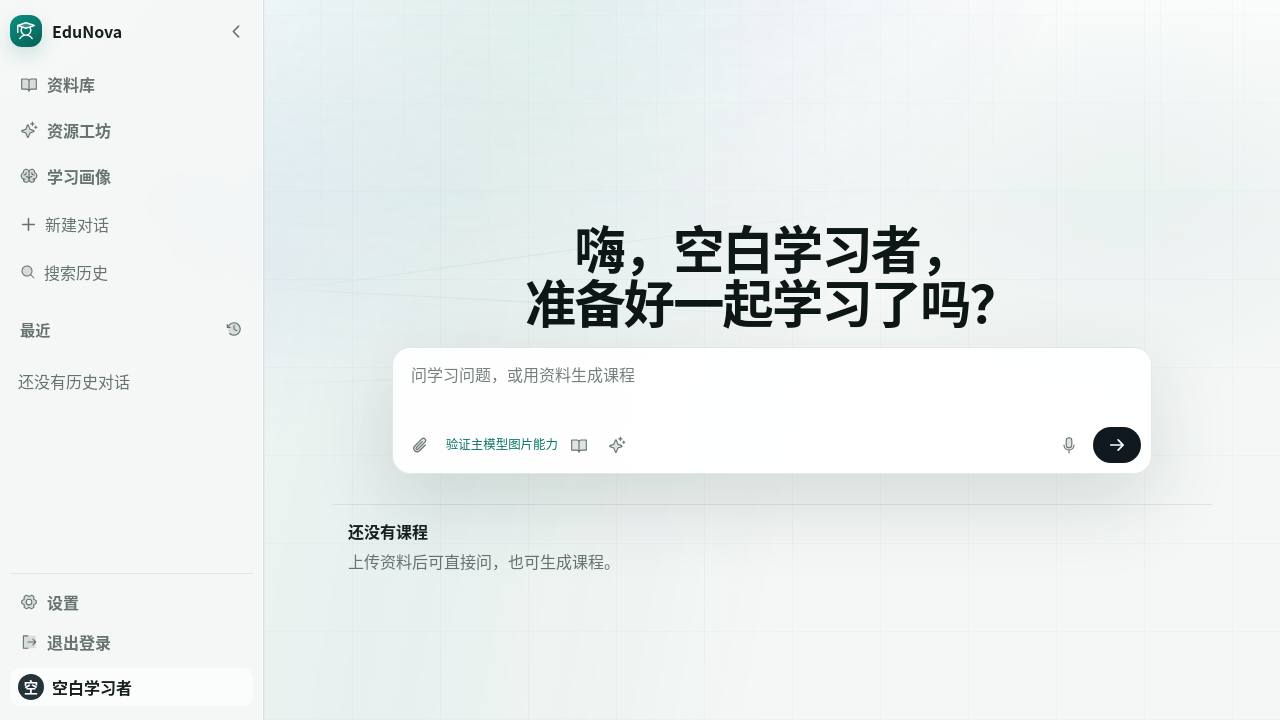
Test: LearningSpacePage › keeps blank dashboard summaries free of static materials and starter history
Check: the text "还没有课程" is shown, box [348, 518, 428, 542]
Check: the text "还没有历史对话" is shown, box [18, 369, 130, 393]
Click the button named "打开资料库".
click(579, 444)  # box [562, 430, 596, 460]
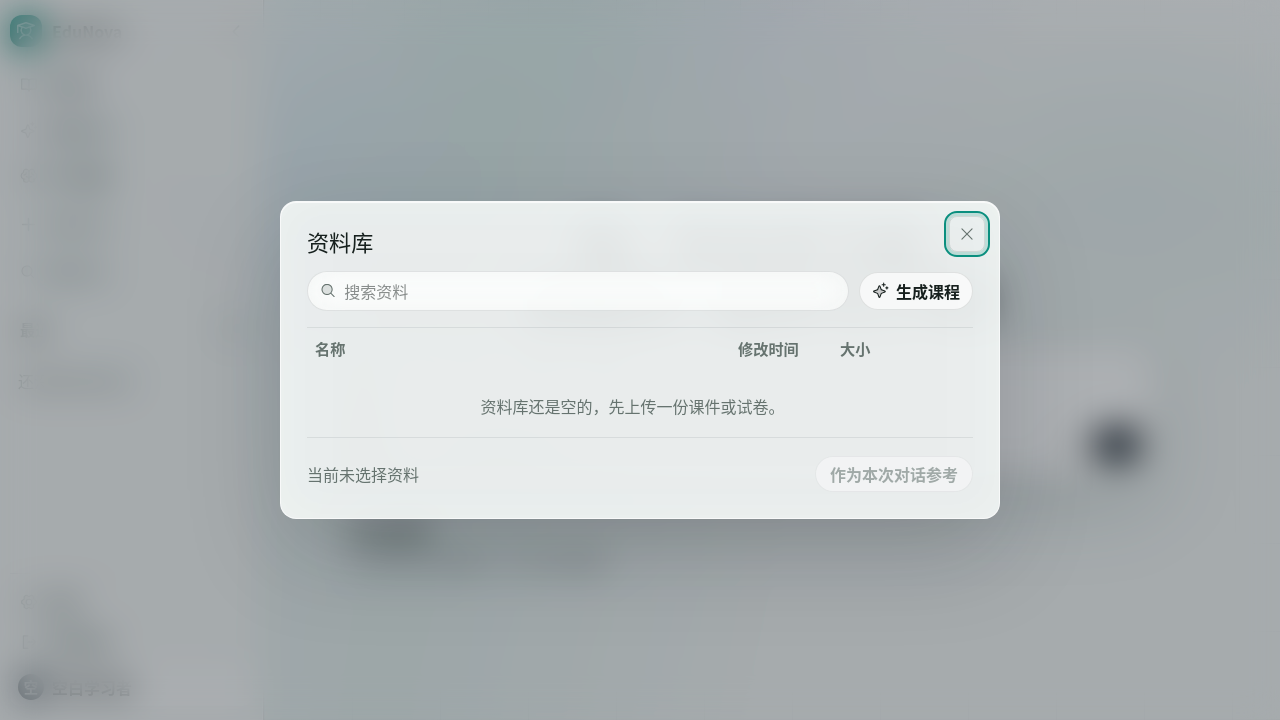
Check: the dialog "资料库" shows "资料库还是空的", box [480, 394, 784, 418]
